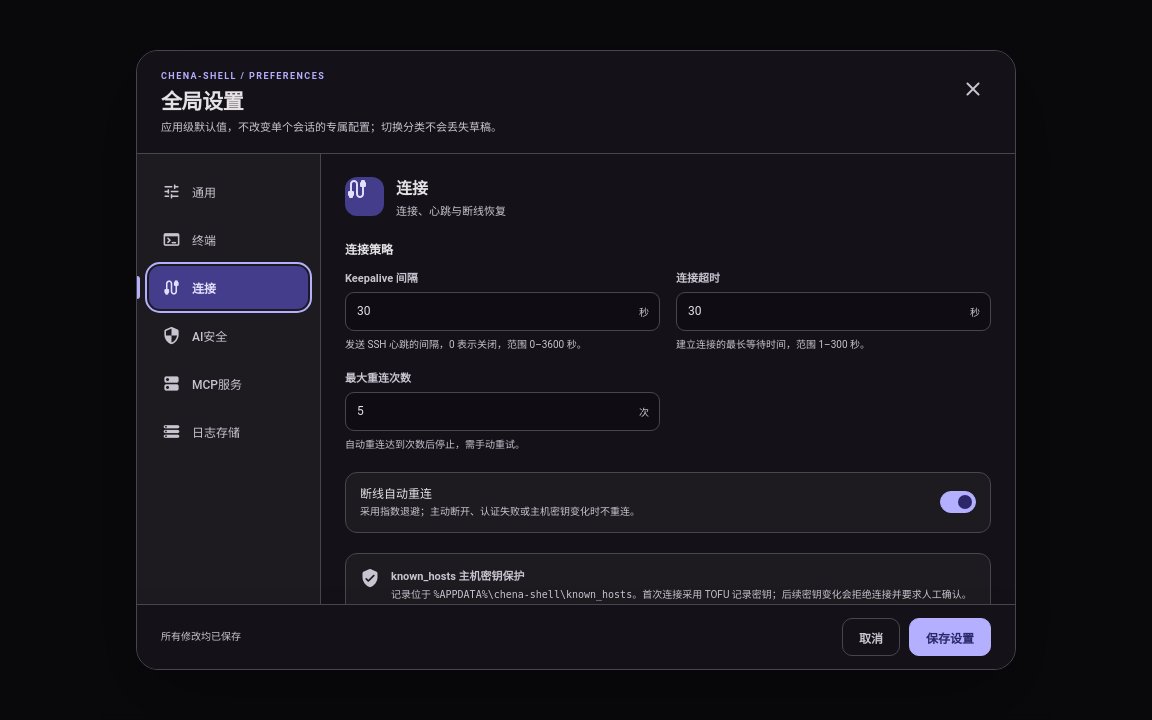
Test: SettingsDialog 输入校验 › 阻止 connection 分类的越界数值
Step 1. Replace the text in the number field labelled "Keepalive 间隔" with "-1" → (502, 311), box [345, 292, 660, 330]
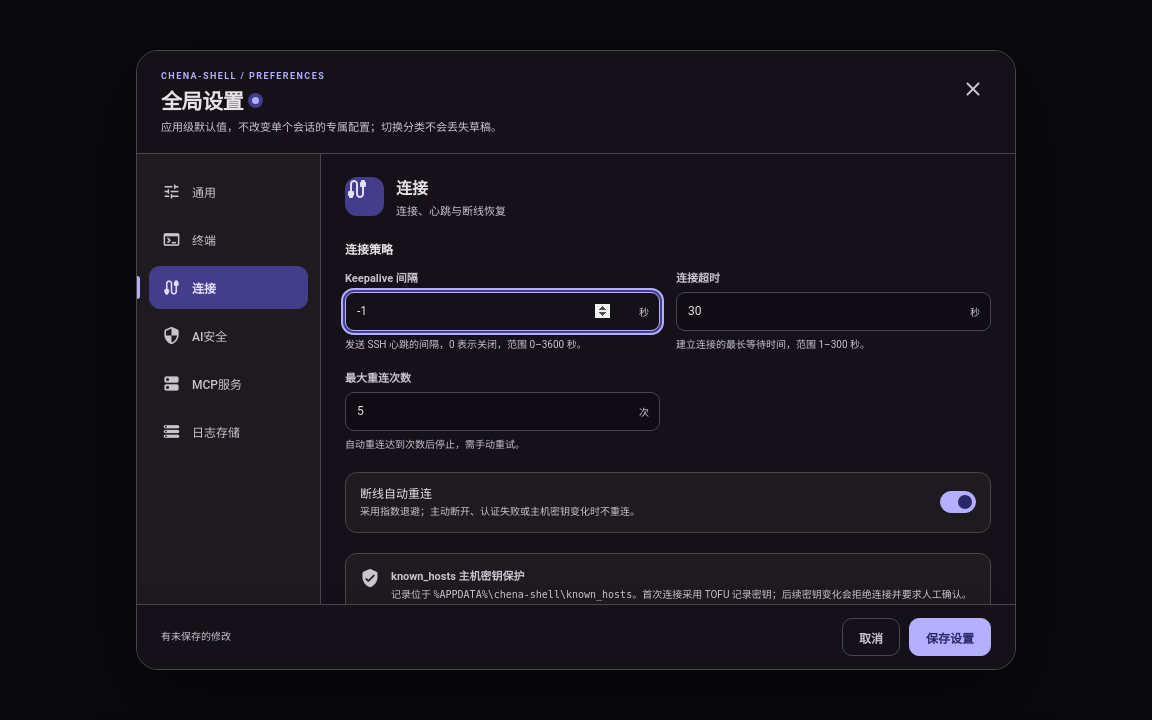
Step 2. Click the button "保存设置" → (950, 637), box [909, 618, 991, 656]
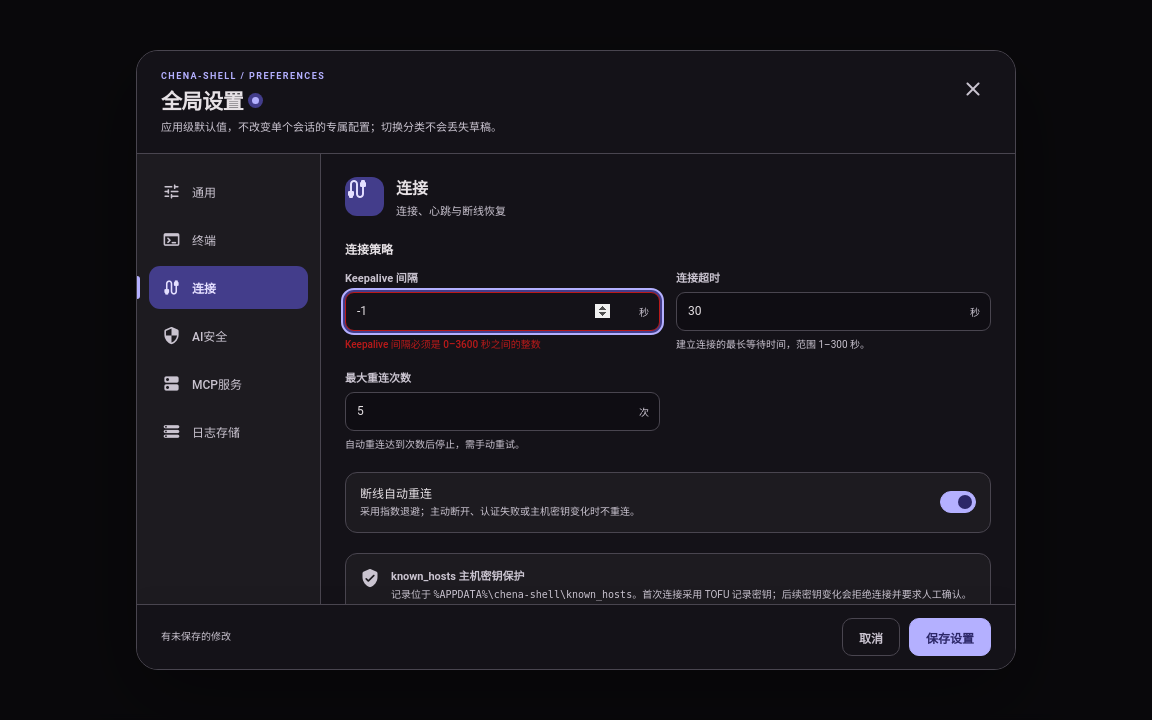
expect the message shows "Keepalive 间隔必须是 0–3600": met, box [345, 338, 541, 350]
